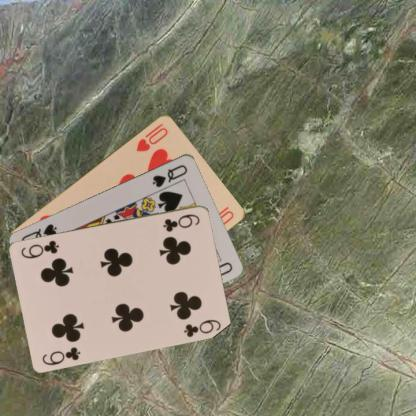10h: (134, 120, 170, 154)
6c: (40, 344, 82, 366), (161, 211, 201, 233)
Qs: (150, 162, 189, 188)
